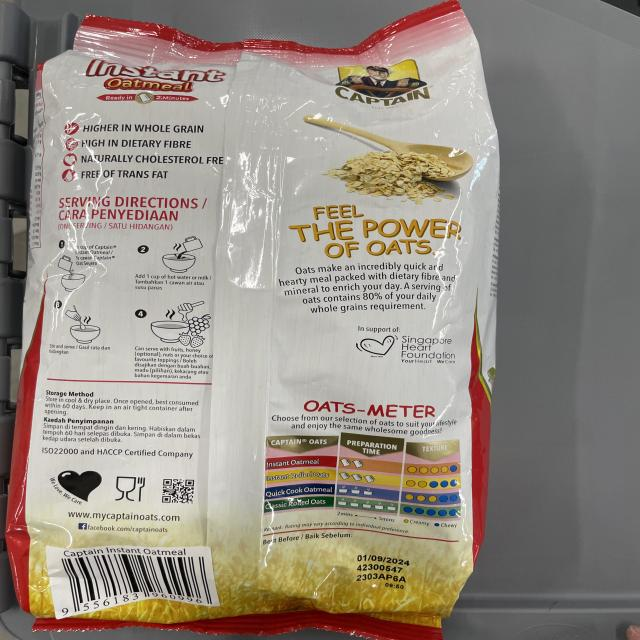object_name: (55, 52, 459, 621)
